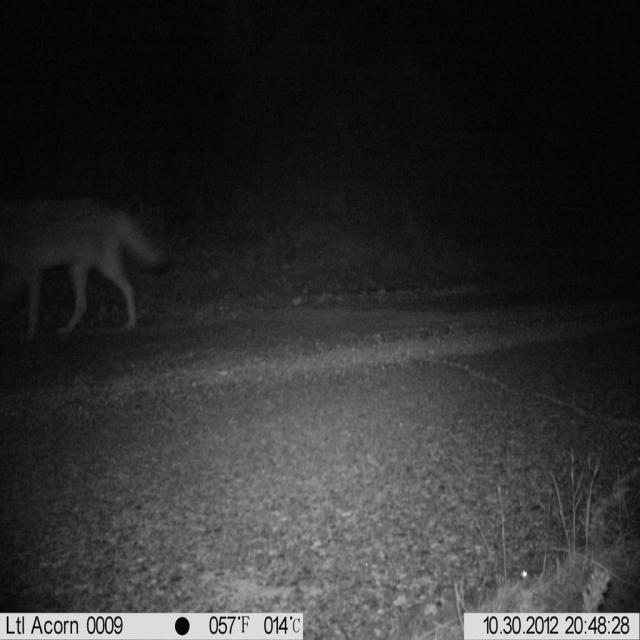coyote: (1, 194, 171, 350)
